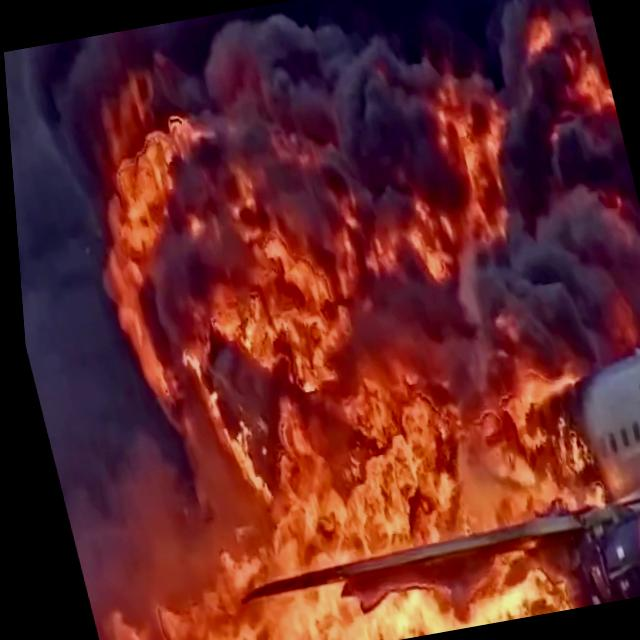fire: (82, 86, 463, 593), (206, 422, 566, 640)
smoke: (23, 0, 493, 118)
